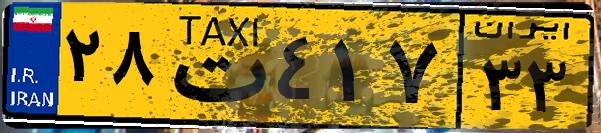1: (330, 28, 385, 110)
2: (57, 26, 110, 100)
3: (475, 38, 525, 113), (525, 38, 570, 115)
4: (270, 28, 330, 110)
7: (385, 28, 445, 110)
8: (110, 28, 158, 98)
ت: (158, 12, 270, 120)
